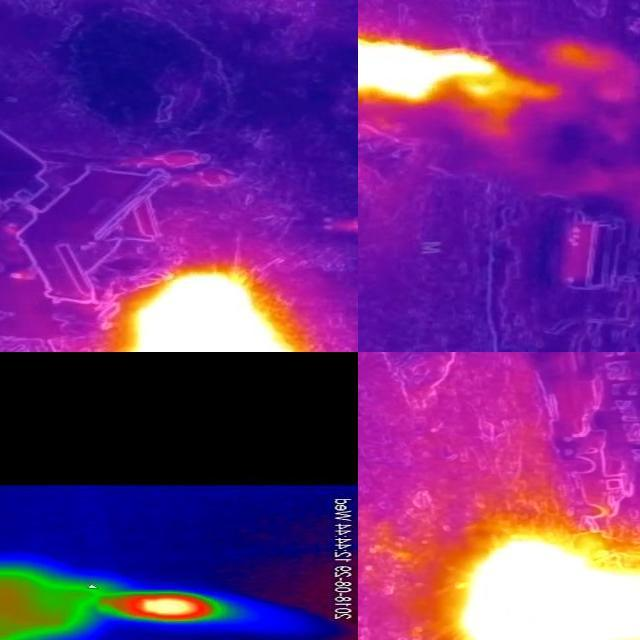fire: (359, 26, 558, 135), (108, 264, 332, 353), (456, 537, 640, 640), (105, 589, 255, 623)
